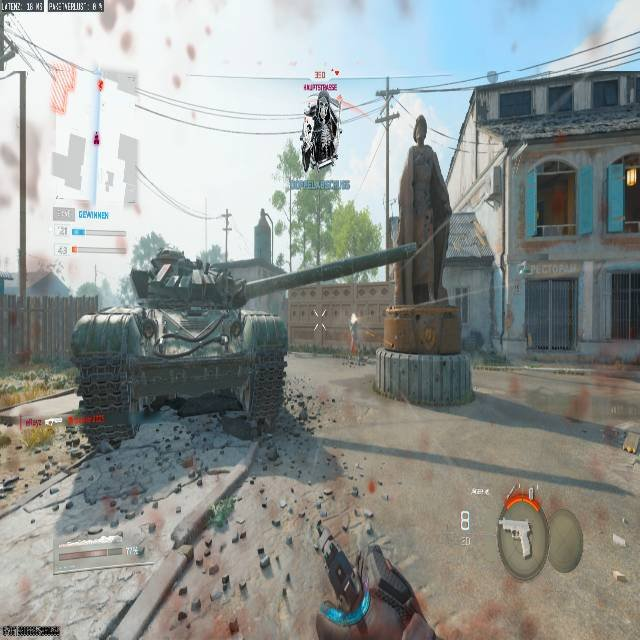player: (302, 92, 341, 169)
